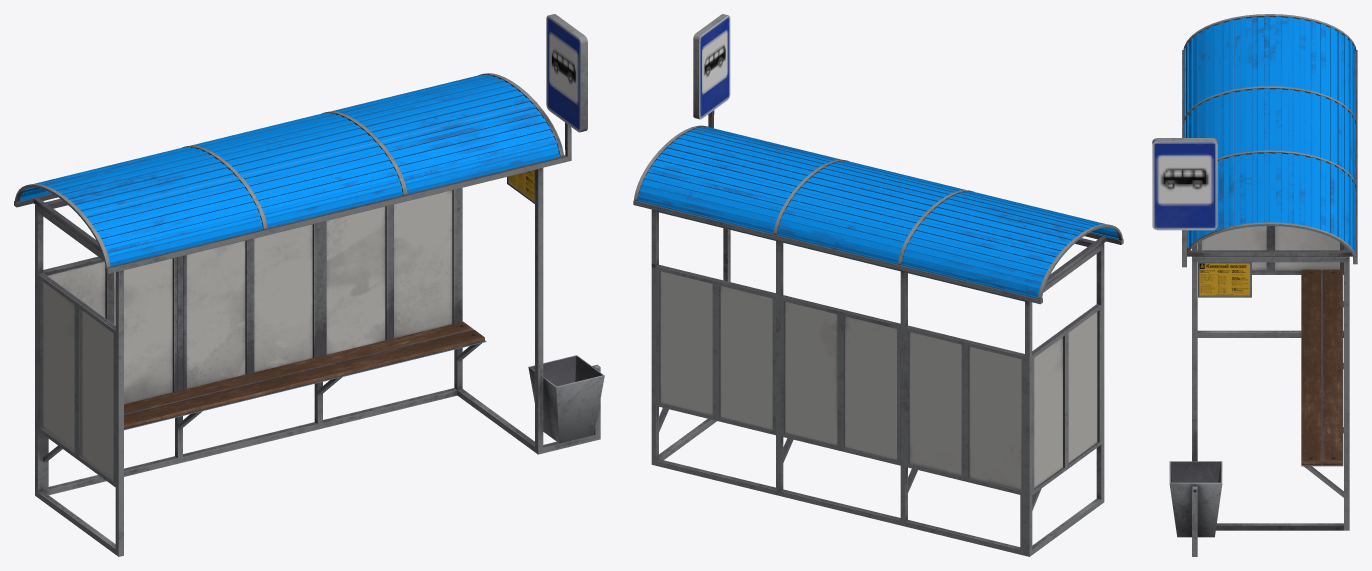
The model's file is bus_stop.fbx.
The picture shows the model from 3 angles, left to right: view 1: azimuth 30°, elevation 25°; view 2: azimuth 150°, elevation 25°; view 3: azimuth 270°, elevation 25°; orthographic projection. The views are drawn at different scales.
Parts seen in each view (by area): view 1: bus_stop; view 2: bus_stop; view 3: bus_stop.
Part boxes in pixels (left/top/right/bottom): bus_stop: left=14, top=14, right=604, bottom=556; bus_stop: left=633, top=14, right=1123, bottom=556; bus_stop: left=1152, top=14, right=1357, bottom=556.
Size of the model in its own units: 246 by 201 by 93.42.
